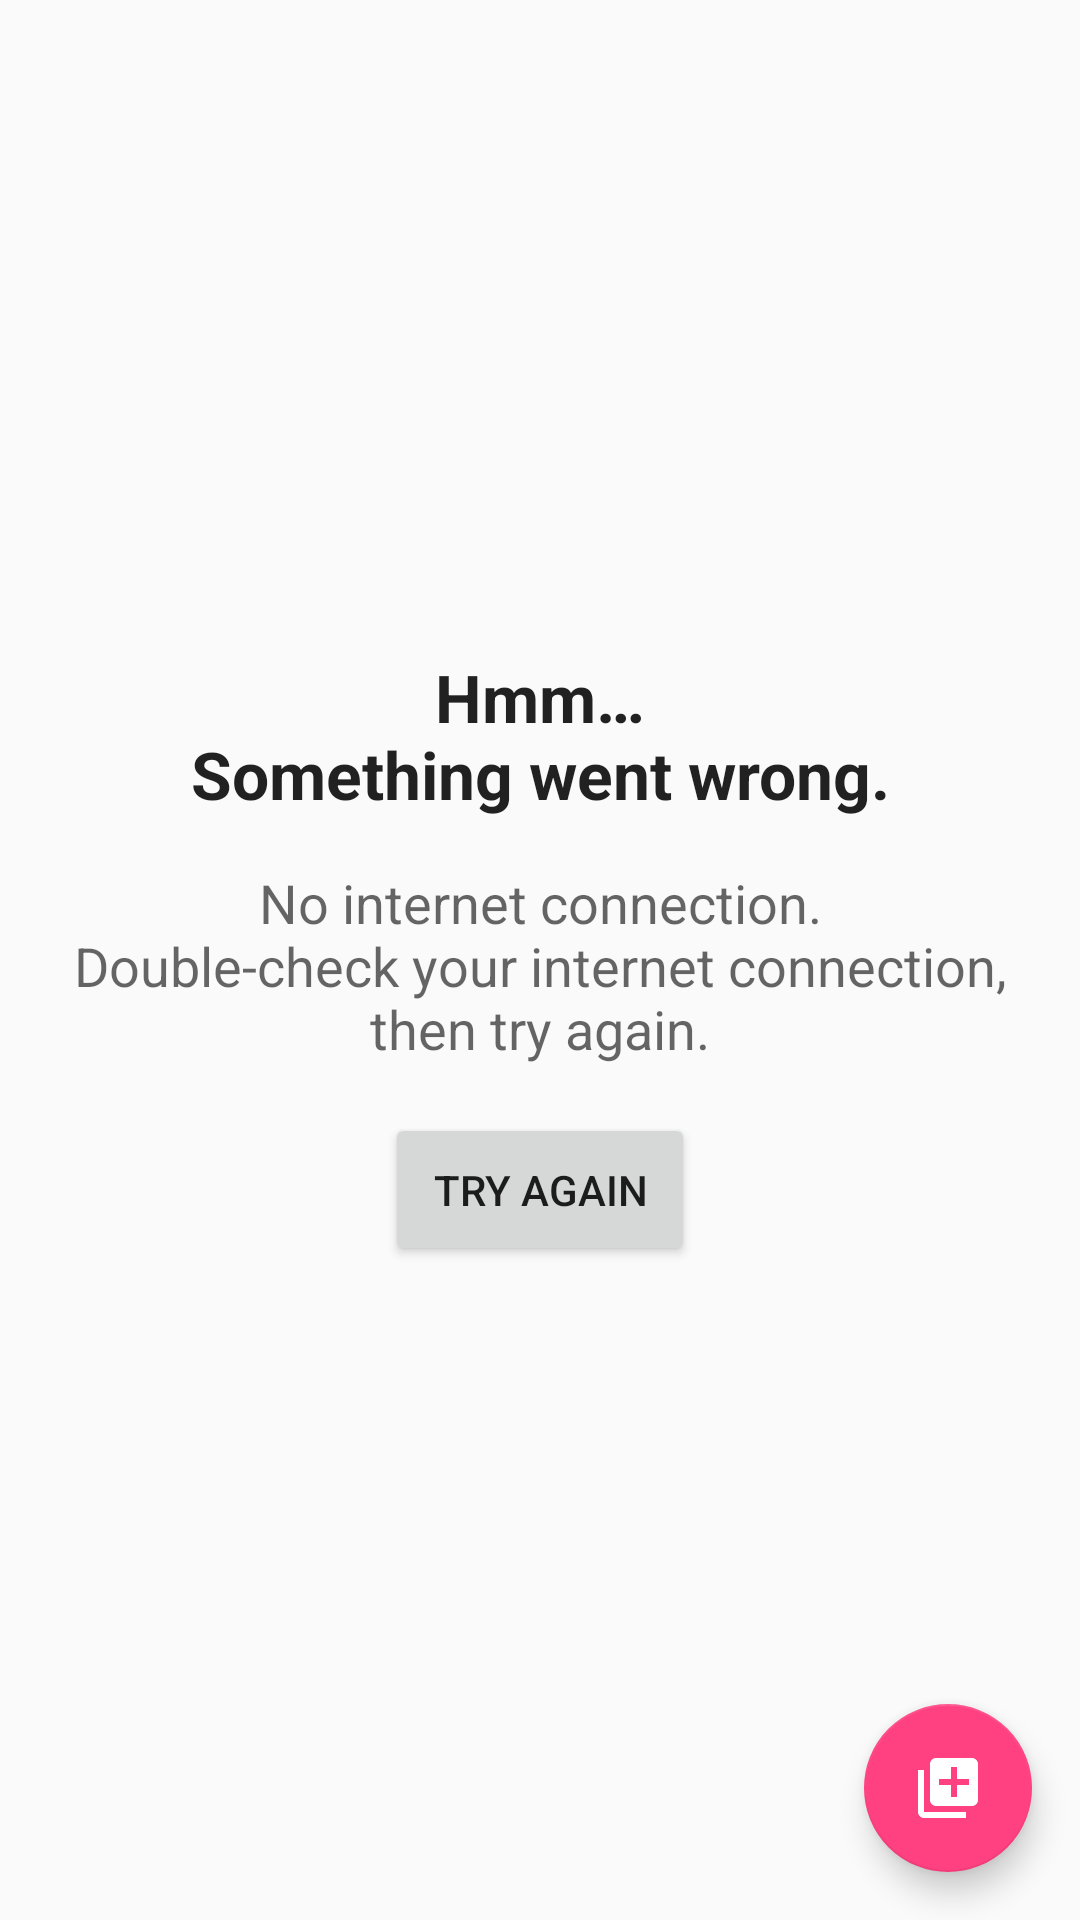

Where icons sit on this 1080*1920 app screen, as (x1, y1, x2, y2):
add fab: (864, 1704, 1032, 1872)
